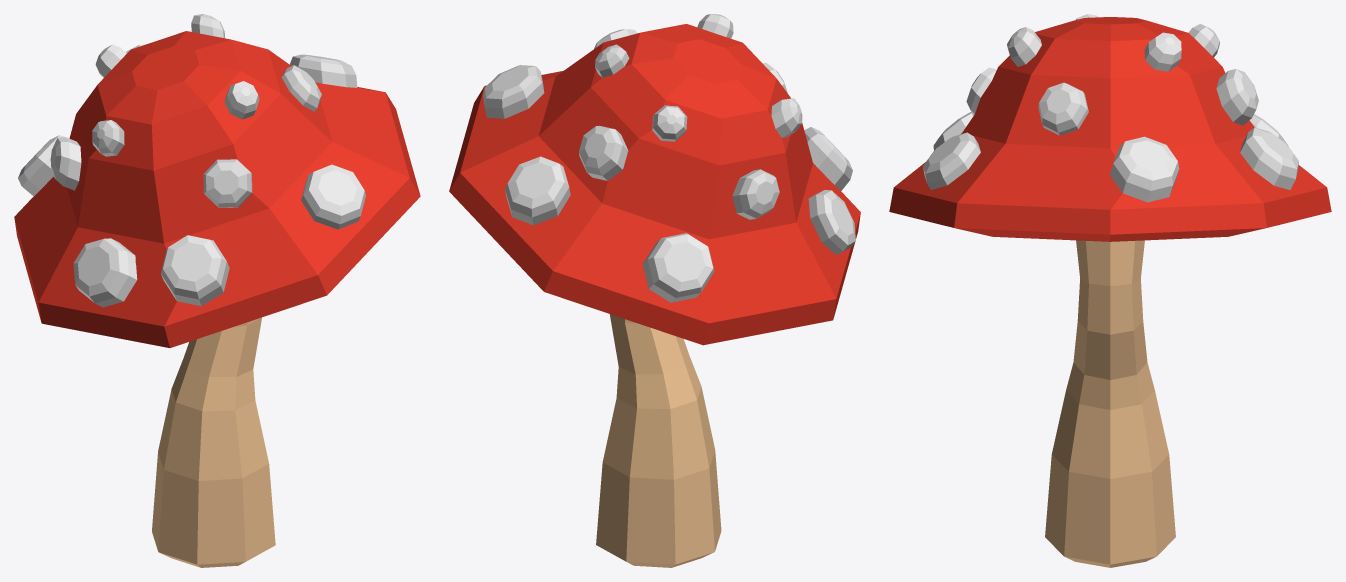
File: Mushroom 1.fbx
3 views of the same model, side by side, from view 1: azimuth 30°, elevation 25°; view 2: azimuth 150°, elevation 25°; view 3: azimuth 270°, elevation 25° (orthographic). The views are drawn at different scales.
Visible parts, largest first — view 1: Mushroom 1 Spots; view 2: Mushroom 1 Spots; view 3: Mushroom 1 Spots.
Boxes of the visible parts, <box> form: Mushroom 1 Spots: <box>14,14,420,567</box>; Mushroom 1 Spots: <box>449,14,860,567</box>; Mushroom 1 Spots: <box>889,14,1331,567</box>.
Bounding box in the file's own units: 14.15 × 19.27 × 14.83.
